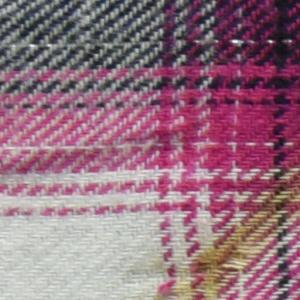Damage: (189, 237, 256, 289)
Oil Stain: (150, 170, 300, 300)
